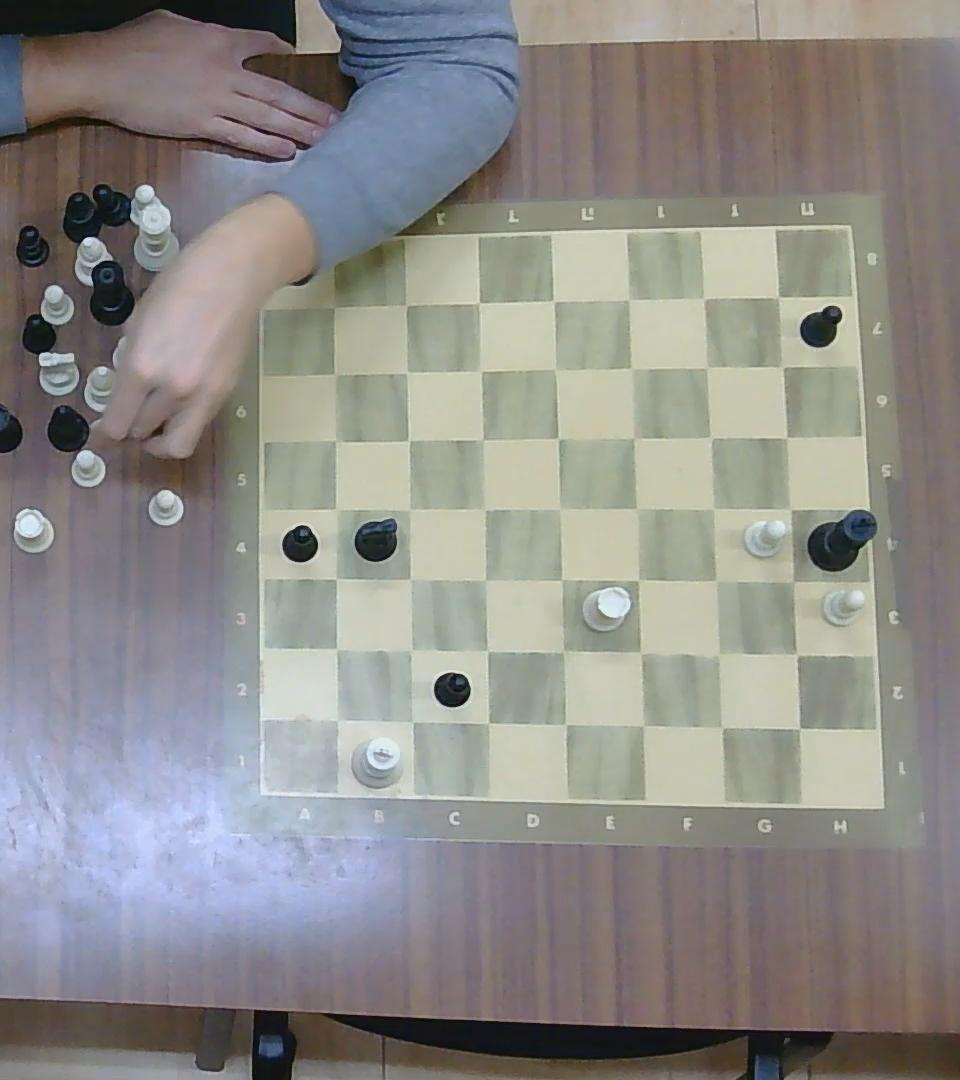xcorner: (701, 638, 735, 670), (548, 706, 580, 738), (622, 562, 654, 594), (705, 710, 736, 743), (625, 635, 656, 667), (783, 711, 814, 743), (626, 709, 657, 741), (471, 706, 503, 737), (320, 703, 352, 734), (396, 705, 428, 735), (471, 636, 502, 666), (781, 639, 812, 669), (548, 636, 578, 666), (700, 565, 730, 595), (615, 283, 645, 313), (548, 563, 577, 594), (698, 493, 728, 522), (470, 564, 500, 593), (541, 285, 570, 315), (395, 635, 425, 664), (618, 353, 648, 382), (545, 493, 574, 522), (470, 493, 499, 522), (542, 353, 571, 382), (622, 493, 651, 522), (465, 287, 494, 316), (395, 564, 424, 593), (392, 289, 421, 318), (776, 493, 805, 522), (777, 566, 807, 594), (621, 422, 649, 451), (469, 424, 497, 453), (321, 635, 350, 663), (321, 564, 350, 592), (693, 352, 722, 380), (545, 424, 573, 452), (467, 356, 495, 383), (395, 426, 423, 453), (692, 284, 719, 312), (320, 291, 348, 318), (769, 352, 797, 379), (396, 494, 423, 521), (698, 423, 725, 450), (321, 361, 349, 387), (324, 496, 350, 523), (323, 427, 349, 453), (773, 422, 799, 448), (394, 358, 420, 383), (767, 285, 791, 308)
